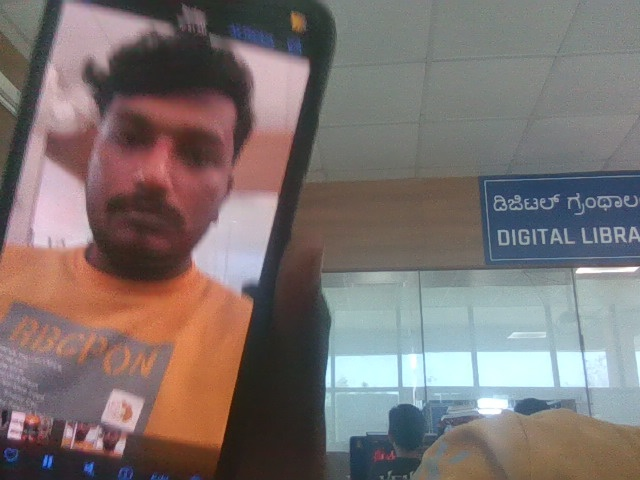fake: (54, 0, 266, 300)
